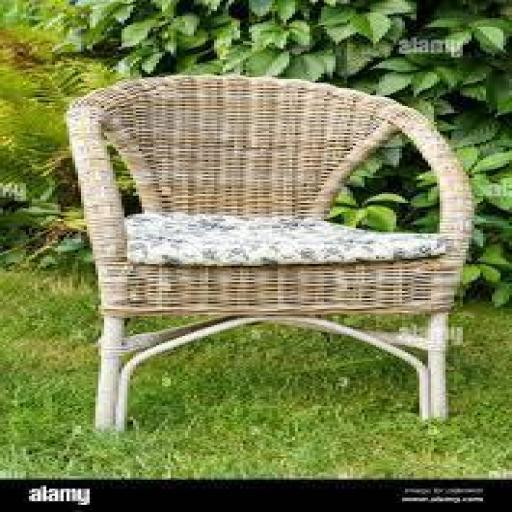chair: (53, 71, 476, 432)
